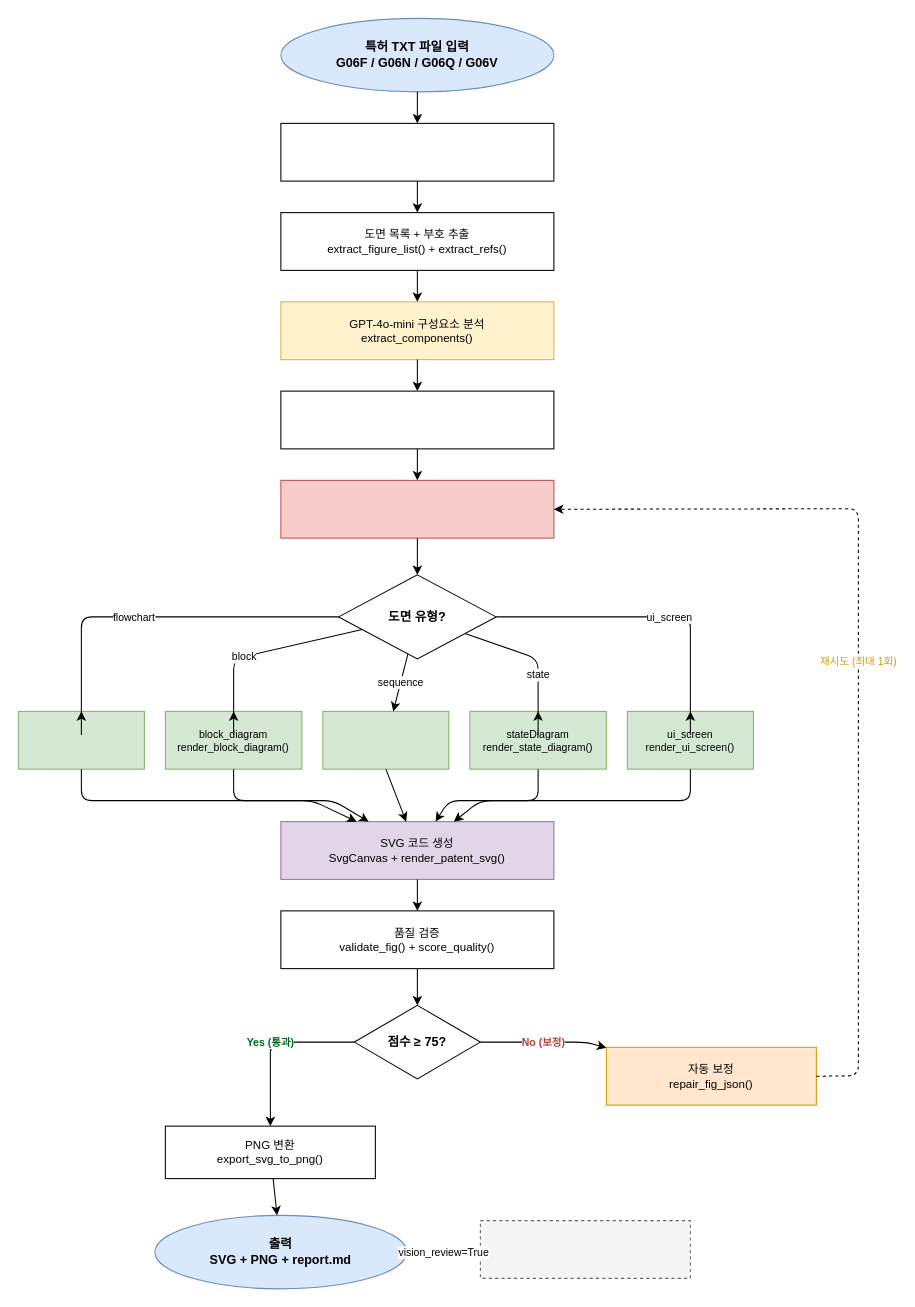
Some shapes in this 915 by 1307 pixel diagram are drawn without their labels. The shapes that lost their labels are listed below. From the top down, each one's box as (x1, y1, x2, y2) in pixels, then its label:
(280, 122, 554, 181): parse_patent_txt()
(280, 390, 554, 449): 분석 결과 병합 merge_refs()
(280, 479, 554, 538): 도면 설계 JSON 생성 build_fig_design()
(17, 710, 144, 769): flowchart render_flowchart()
(322, 710, 449, 769): sequence render_sequence()
(479, 1220, 690, 1278): Vision 검수 (선택) run_vision_review()
